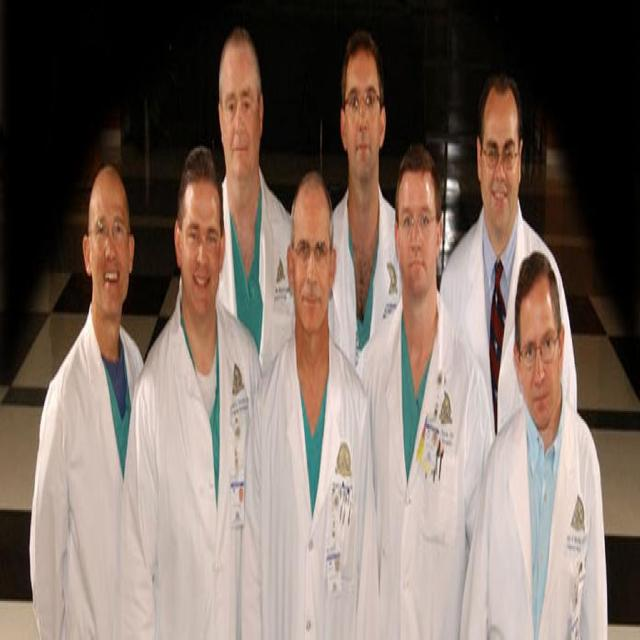nomask: (92, 182, 132, 322), (516, 302, 558, 429), (292, 195, 328, 328), (182, 188, 220, 312), (222, 59, 260, 172), (484, 101, 518, 224), (400, 176, 432, 296), (345, 55, 377, 172)
